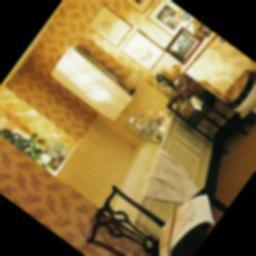Sanitario: (219, 64, 256, 136)
